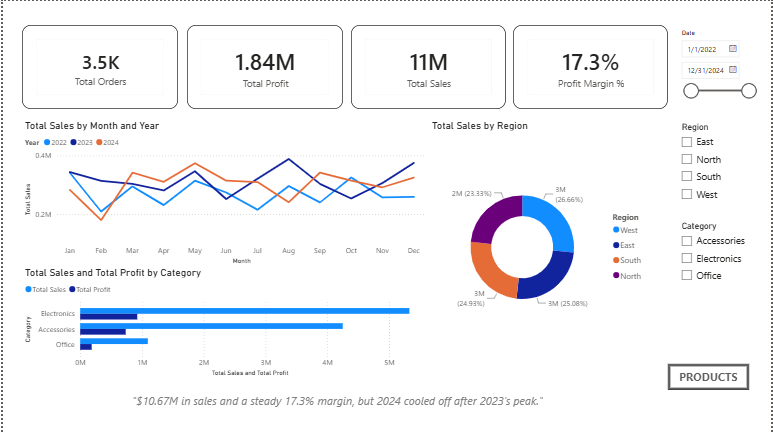

What the dashboard file says about the page in this screenshot:
{"tool":"powerbi","page":{"name":"Page 1","canvas":[1280,720],"ordinal":0},"visuals":[{"type":"textbox","box":[0,0,1280,60],"z":0},{"type":"cardVisual","fields":{"Data":["sales_data.Total Sales"]},"box":[514,60,250,132],"z":1000},{"type":"cardVisual","fields":{"Data":["sales_data.Total_Profit"]},"box":[764,60,250,132],"z":2000},{"type":"cardVisual","fields":{"Data":["sales_data.Total_Quantity_sold"]},"box":[264,60,250,132],"z":3000},{"type":"cardVisual","fields":{"Data":["sales_data.Total_Orders"]},"box":[14,60,250,132],"z":4000},{"type":"cardVisual","fields":{"Data":["sales_data.Profit_Margin"]},"box":[1014,60,250,132],"z":5000},{"type":"lineChart","title":"Sales Trend","fields":{"Category":["sales_data.Month_Year"],"Y":["sales_data.Total Sales"]},"box":[31.4,191.4,608.6,157.1],"z":6000},{"type":"lineChart","title":"Profit Trend","fields":{"Category":["sales_data.Month_Year"],"Y":["sales_data.Total_Profit"]},"box":[640,191.4,622.9,157.1],"z":7000},{"type":"clusteredBarChart","title":"Sales by Category","fields":{"Category":["sales_data.Product_Category"],"Y":["sales_data.Total Sales"]},"box":[31.4,530,482.9,157.1],"z":8000},{"type":"clusteredBarChart","title":"Sales by Region","fields":{"Y":["sales_data.Total_Profit"],"Category":["sales_data.Region"]},"box":[31.4,355.7,482.9,164.3],"z":9000},{"type":"barChart","title":"Sales Rep Performance","fields":{"Y":["sales_data.Total Sales"],"Category":["sales_data.Sales_Rep"]},"box":[514.3,520,311.4,200],"z":10000},{"type":"donutChart","fields":{"Y":["sales_data.Total Sales"],"Category":["sales_data.Sales_Channel"]},"box":[514.3,355.7,374.3,144.3],"z":11000},{"type":"textSlicer","fields":{"Values":["sales_data.Month_Year"]},"box":[904.3,348.6,218.6,62.9],"z":12000},{"type":"listSlicer","fields":{"Values":["sales_data.Product_Category"]},"box":[1124.3,348.6,155.7,151.4],"z":13000},{"type":"textSlicer","fields":{"Values":["sales_data.Region"]},"box":[902.9,424.3,220,64.3],"z":14000},{"type":"textbox","box":[825.7,500,438.6,220],"z":15000}]}

Visuals, with their boxes in screenshot pixels (x1, y1, x2, y2), scaled from the page's 1280x720 canvas onto the 773x432 screenshot:
textbox: box(0, 0, 772, 36)
cardVisual - sales_data.Total Sales: box(310, 36, 461, 115)
cardVisual - sales_data.Total_Profit: box(461, 36, 612, 115)
cardVisual - sales_data.Total_Quantity_sold: box(159, 36, 310, 115)
cardVisual - sales_data.Total_Orders: box(8, 36, 159, 115)
cardVisual - sales_data.Profit_Margin: box(612, 36, 763, 115)
"Sales Trend" lineChart: box(19, 115, 386, 209)
"Profit Trend" lineChart: box(386, 115, 763, 209)
"Sales by Category" clusteredBarChart: box(19, 318, 311, 412)
"Sales by Region" clusteredBarChart: box(19, 213, 311, 312)
"Sales Rep Performance" barChart: box(311, 312, 499, 431)
donutChart - sales_data.Total Sales x sales_data.Sales_Channel: box(311, 213, 537, 300)
textSlicer - sales_data.Month_Year: box(546, 209, 678, 247)
listSlicer - sales_data.Product_Category: box(679, 209, 772, 300)
textSlicer - sales_data.Region: box(545, 255, 678, 293)
textbox: box(499, 300, 764, 431)
